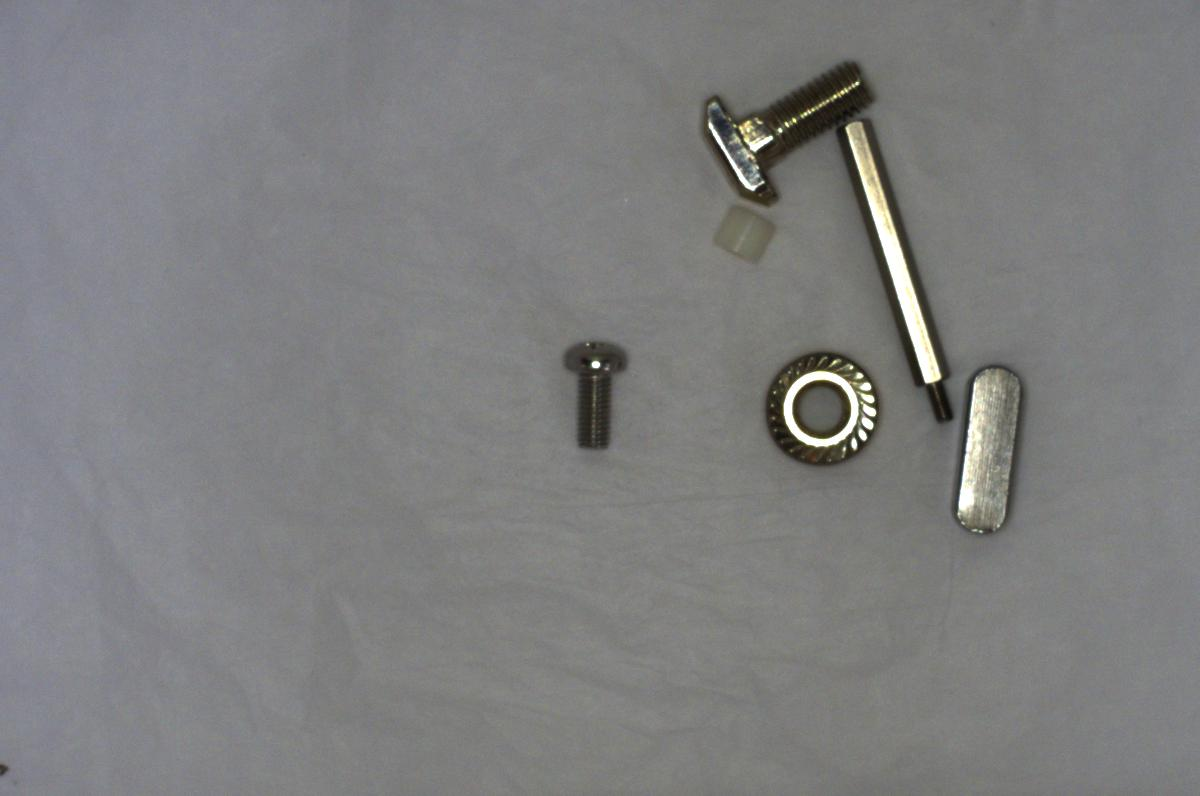Flange nut: (757, 341, 887, 478)
Hexagonal steel column: (835, 109, 958, 432)
Keybar: (941, 360, 1035, 544)
Plastic cushion pillar: (702, 194, 784, 272)
Round head screw: (553, 327, 638, 463)
T-shaped screw: (689, 53, 882, 206)
